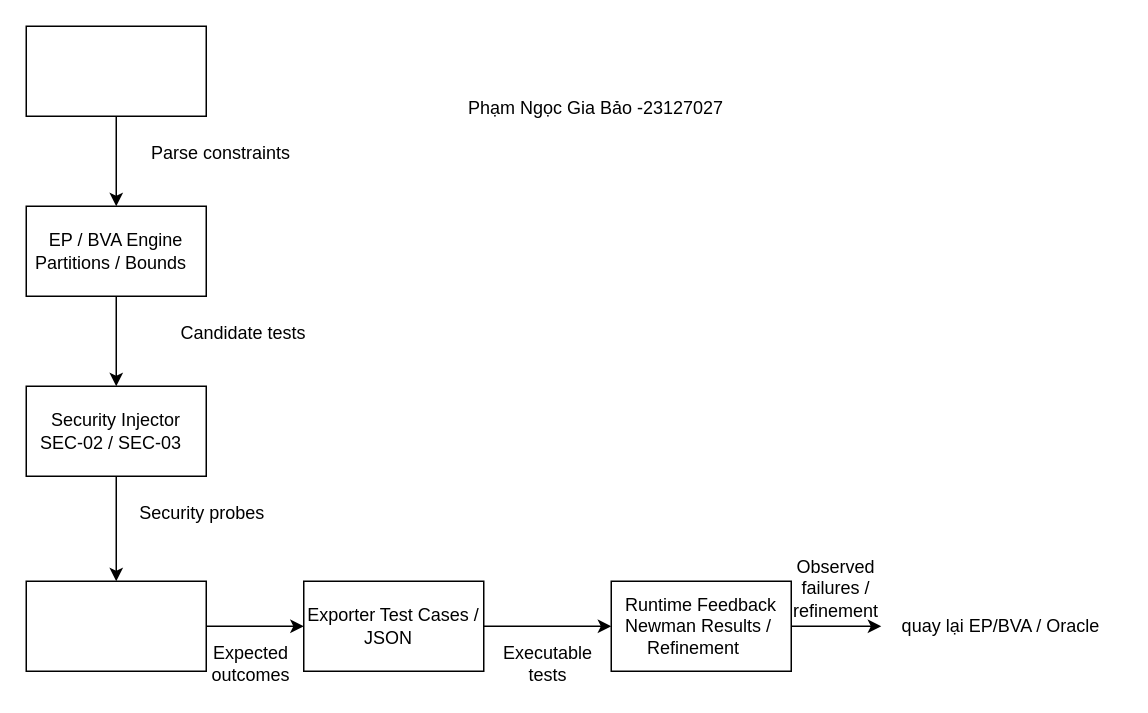
Image size: 1148x713. Some labels were removed from this diagram. The centre of each missing label's shape, as x and y in pixels:
Input Ingestion API Spec / Rules: (115,70)
Oracle Calibration Spec / Infer / Unknown: (115,625)
